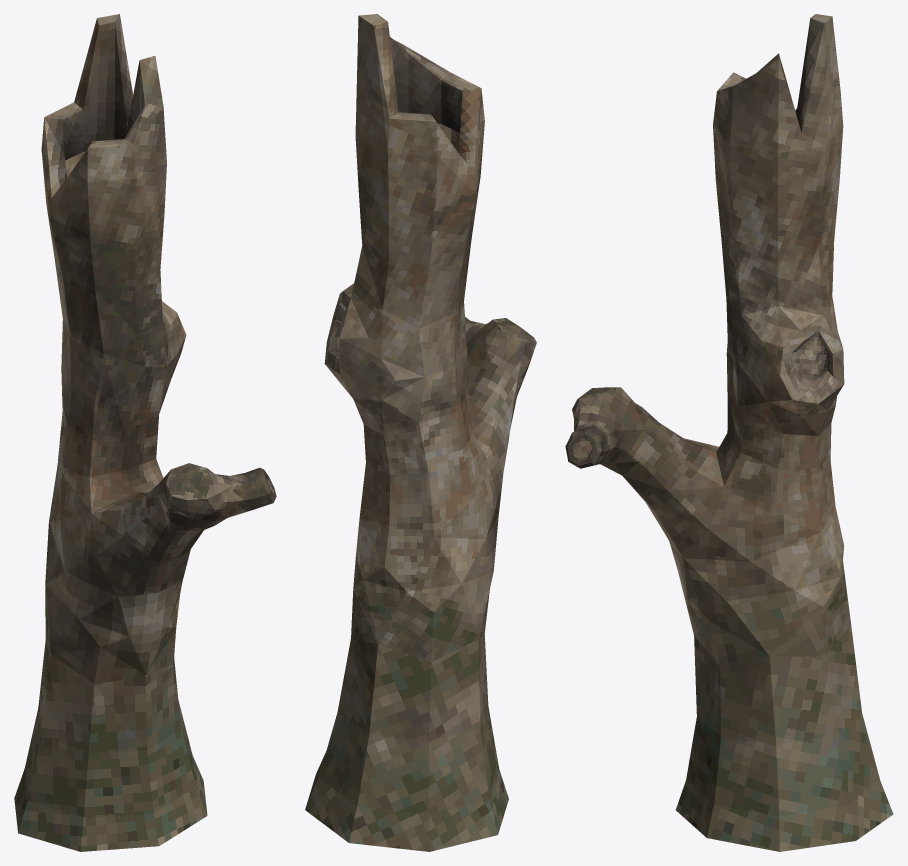
File: Trunk_02.glb
3 renders of one model, left to right at view 1: azimuth 30°, elevation 25°; view 2: azimuth 150°, elevation 25°; view 3: azimuth 270°, elevation 25°, orthographic. The views are drawn at different scales.
Parts seen in each view (by area): view 1: Trunk_02; view 2: Trunk_02; view 3: Trunk_02.
Part boxes in pixels (box(x1,y1,x2,y2)): Trunk_02: box(14, 14, 276, 851); Trunk_02: box(305, 14, 536, 851); Trunk_02: box(565, 14, 893, 851).
Bounding box in the file's own units: 2.74 × 11.24 × 4.13.
Materials: 1 (1 with a texture image).
